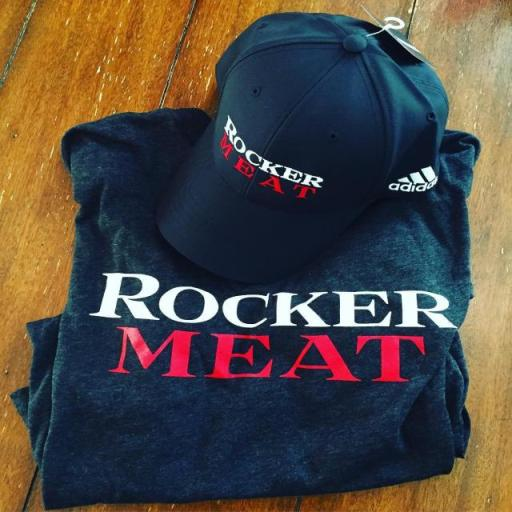Adidas: (384, 162, 442, 195)
